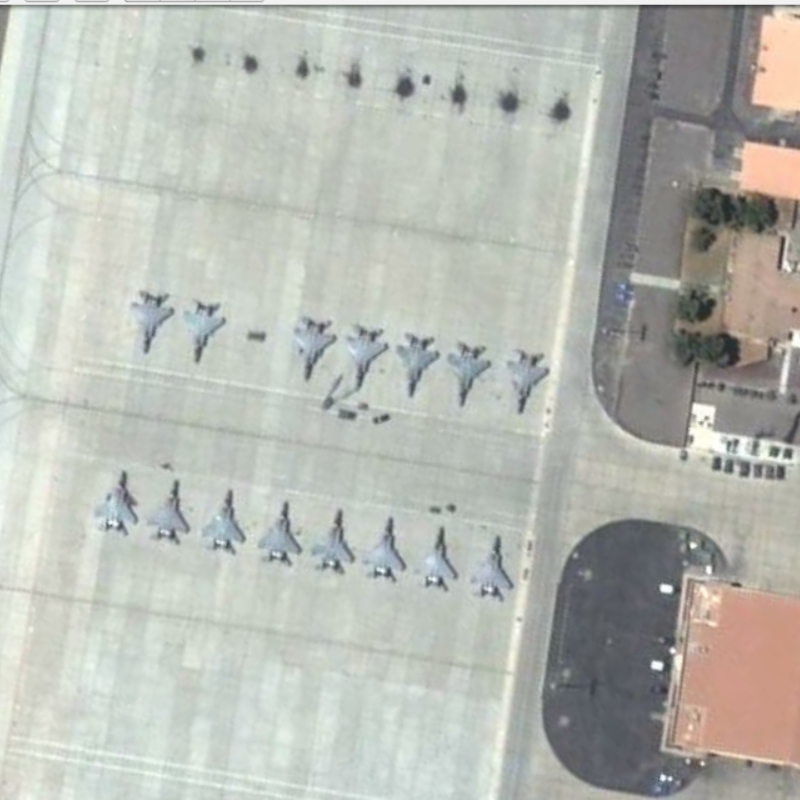A13: (440, 329, 494, 414), (140, 472, 195, 551), (341, 313, 390, 398), (125, 282, 178, 360), (465, 528, 518, 604), (179, 293, 230, 371), (253, 494, 304, 572), (392, 325, 444, 401), (196, 483, 249, 557), (291, 308, 342, 384), (360, 510, 407, 591), (307, 505, 356, 581), (413, 519, 460, 598), (504, 344, 554, 415), (92, 466, 137, 537)
